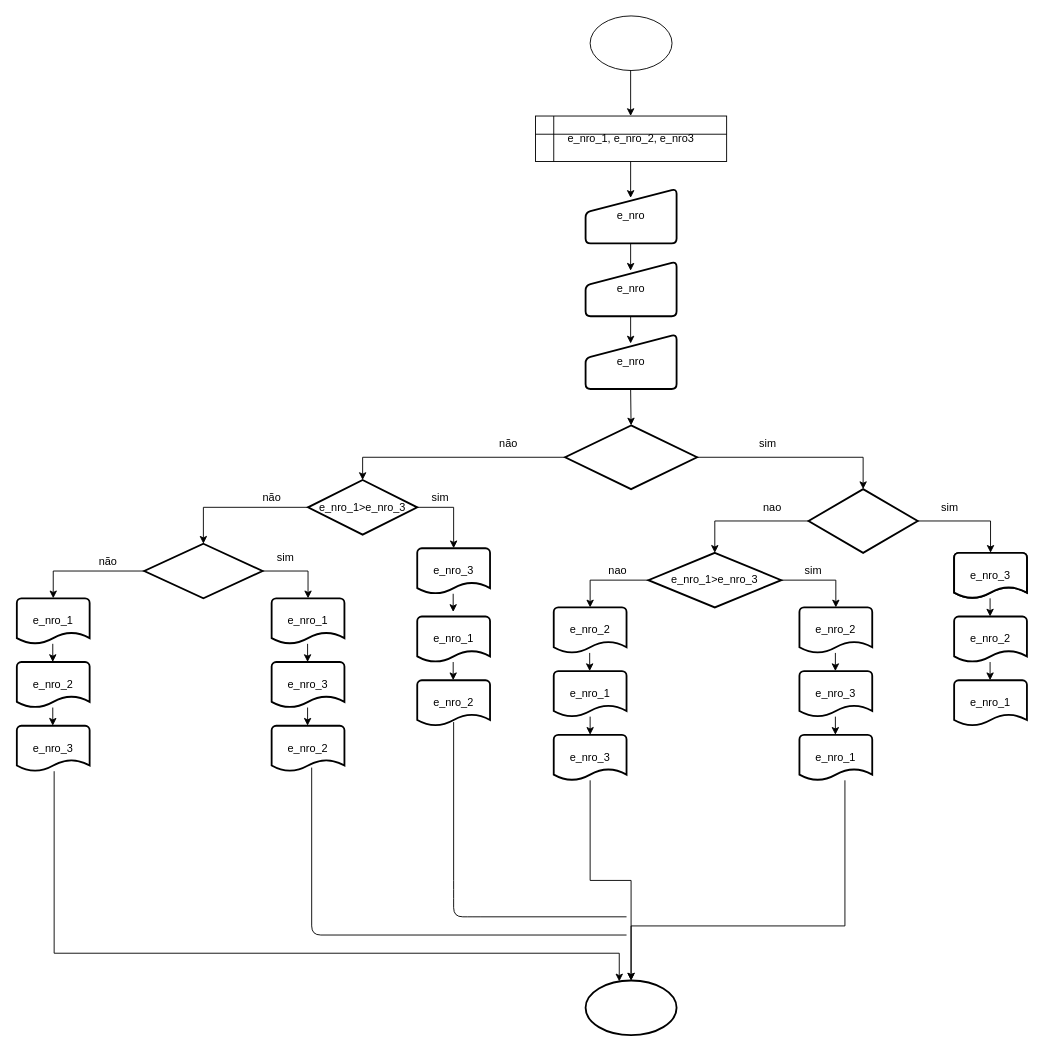
Image size: 1043x1052. Some labels were removed from this diagram. The centre of each missing label's shape, as x and y in pixels:
"e_nro>e_nro_2" goes at pixel 631 457.
"e_nro>nro_3" goes at pixel 862 520.
"e_nro_2>e_nro_3" goes at pixel 203 570.
"end" goes at pixel 630 1007.
"start" goes at pixel 630 43.
